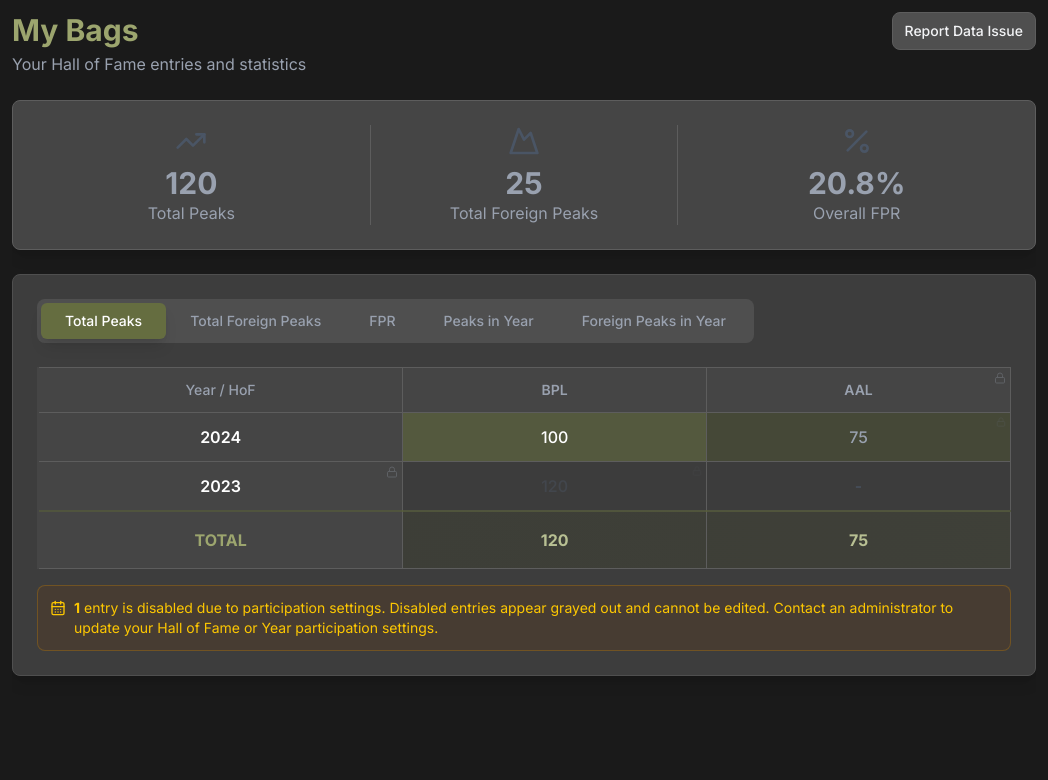
Scenario: MyBagsManagement › Metric Selection › should switch to FPR metric
Step 1. Click the button "FPR" → (382, 321), box [345,303,420,339]
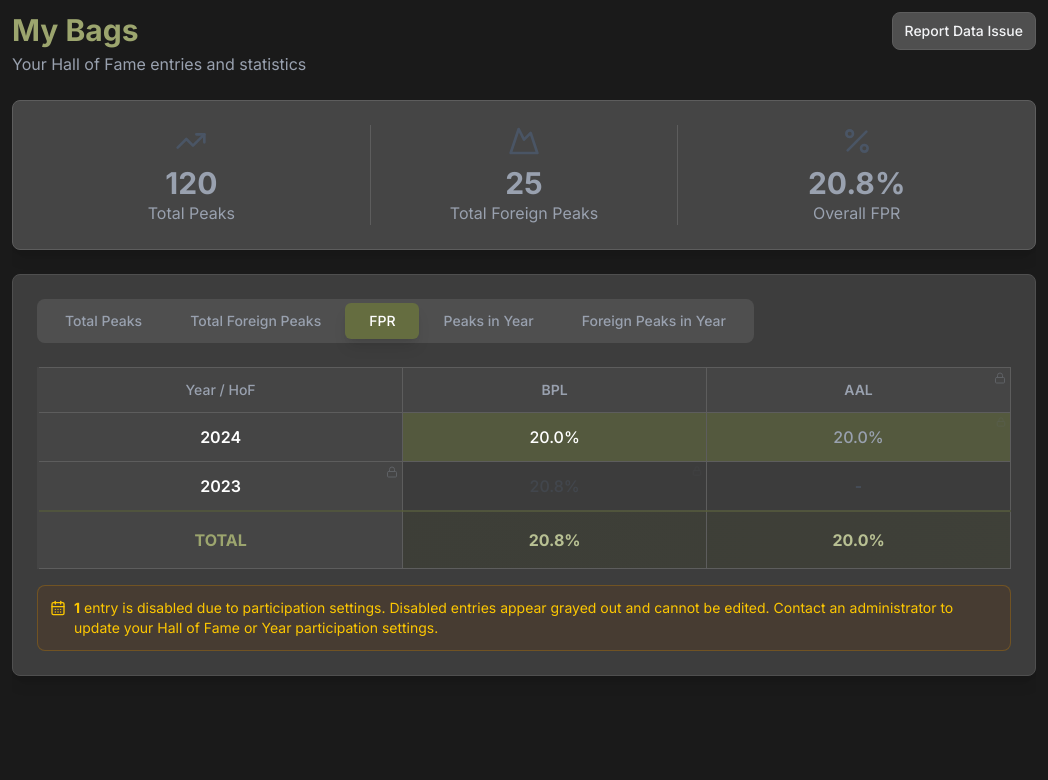
Expected: the 1st text "20.0%" is shown, [529,427,580,447]
